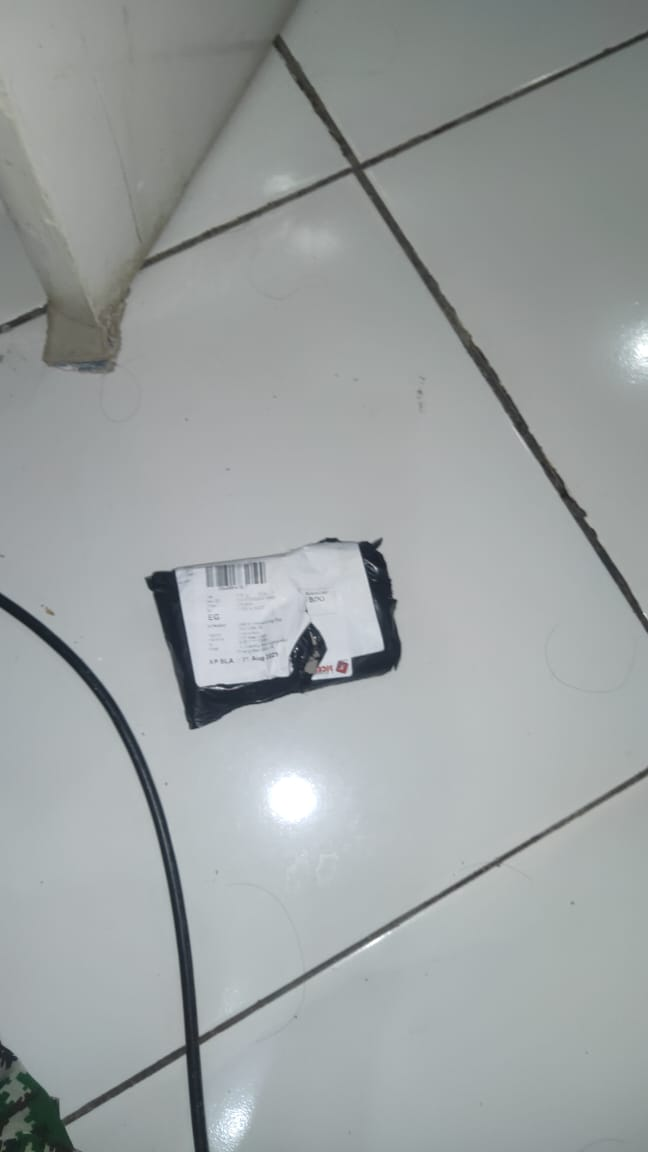damaged package: (287, 601, 329, 689)
undamaged: (144, 541, 402, 733)
